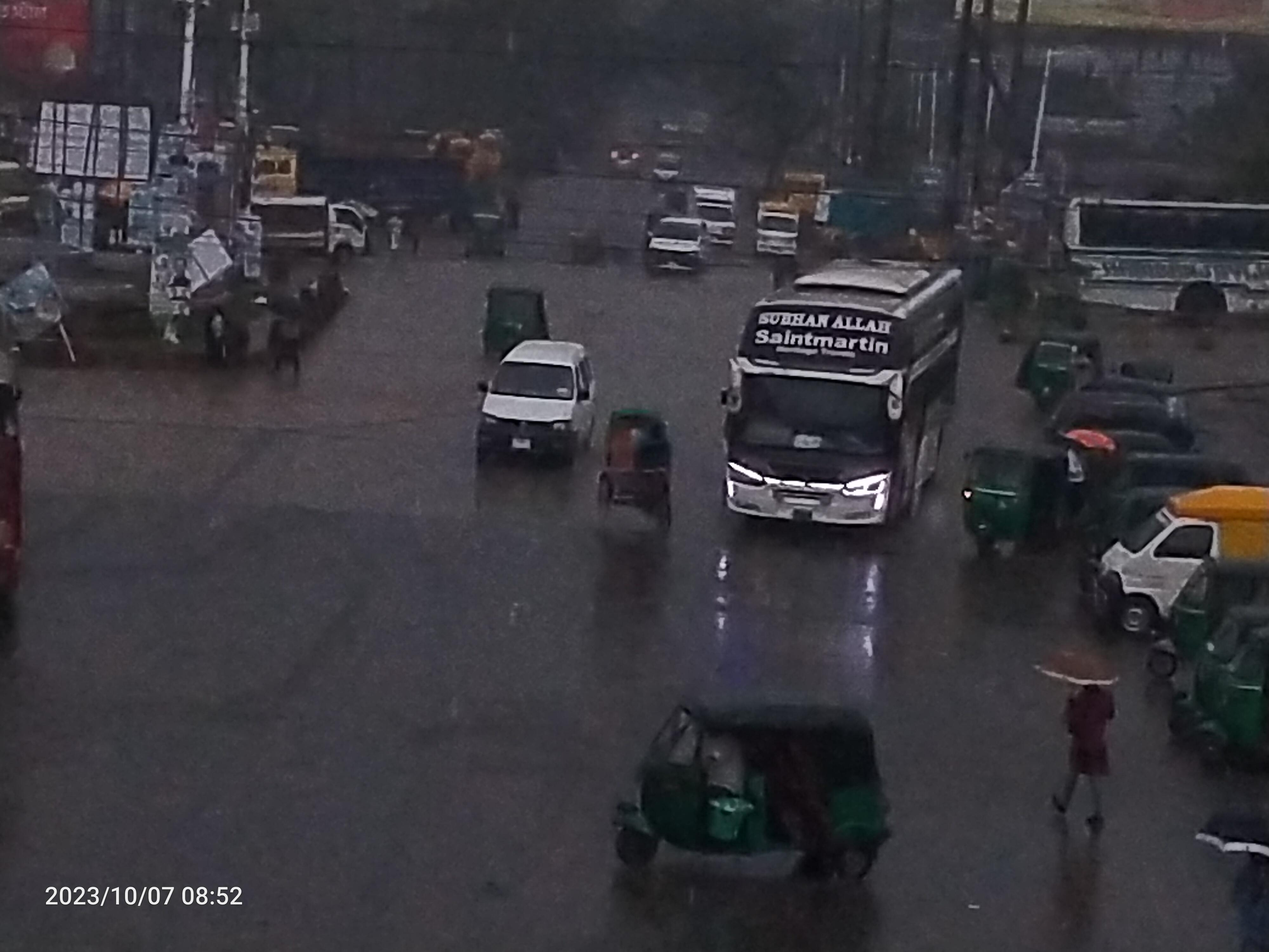Bus: (706, 226, 991, 575), (1029, 157, 1269, 343)
Car: (1056, 471, 1269, 644), (455, 329, 607, 501), (577, 390, 694, 551), (734, 181, 819, 278), (627, 199, 713, 288), (675, 168, 758, 260)
